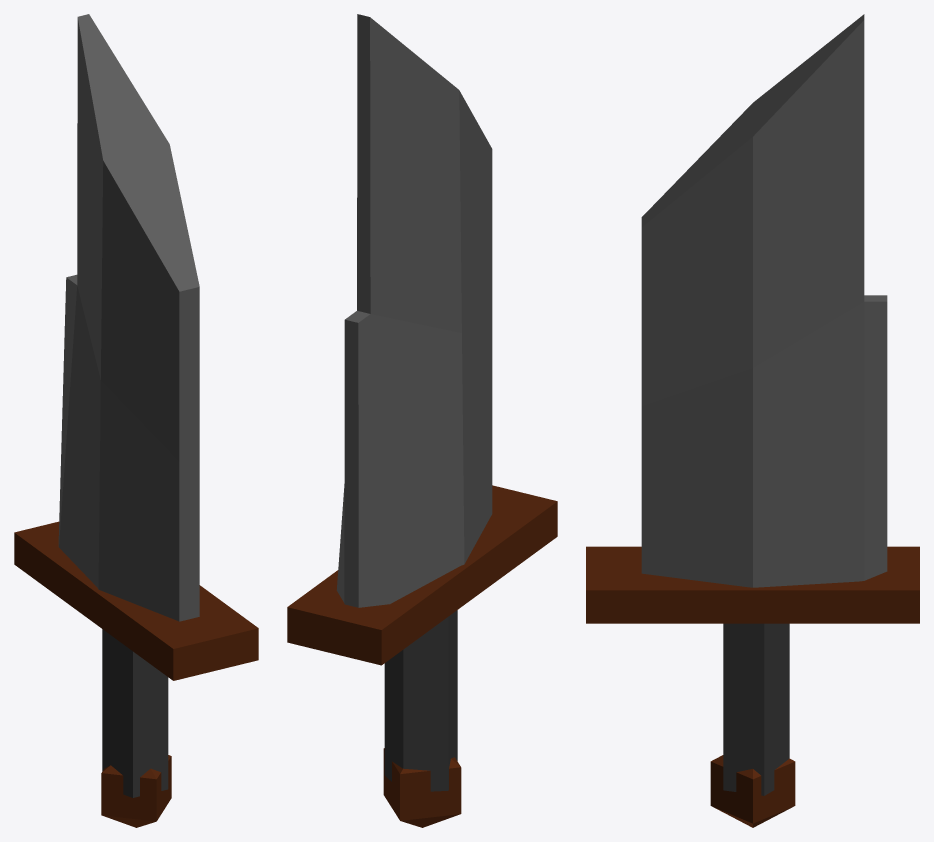
File: sword.fbx
The picture shows the model from 3 angles, left to right: view 1: azimuth 30°, elevation 25°; view 2: azimuth 150°, elevation 25°; view 3: azimuth 270°, elevation 25°; orthographic projection. The views are drawn at different scales.
Parts seen in each view (by area): view 1: Cube, Cube.001, Cylinder, Sphere; view 2: Cube, Cube.001, Cylinder, Sphere; view 3: Cube, Cube.001, Cylinder, Sphere.
Boxes of the visible parts, x1=… form: Cube: x1=58, y1=14, x2=199, y2=621; Cube.001: x1=14, y1=521, x2=258, y2=680; Cylinder: x1=102, y1=629, x2=168, y2=797; Sphere: x1=101, y1=755, x2=171, y2=827; Cube: x1=336, y1=14, x2=492, y2=607; Cube.001: x1=287, y1=485, x2=557, y2=665; Cylinder: x1=384, y1=610, x2=457, y2=791; Sphere: x1=383, y1=748, x2=461, y2=827; Cube: x1=641, y1=14, x2=887, y2=587; Cube.001: x1=586, y1=546, x2=919, y2=623; Cylinder: x1=723, y1=623, x2=789, y2=795; Sphere: x1=710, y1=755, x2=795, y2=827.
Size of the model in its own units: 34.24 by 297 by 111.
